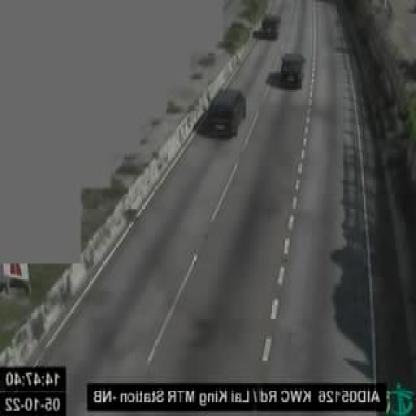Car: (209, 88, 247, 139), (279, 50, 307, 87), (262, 12, 280, 40)
